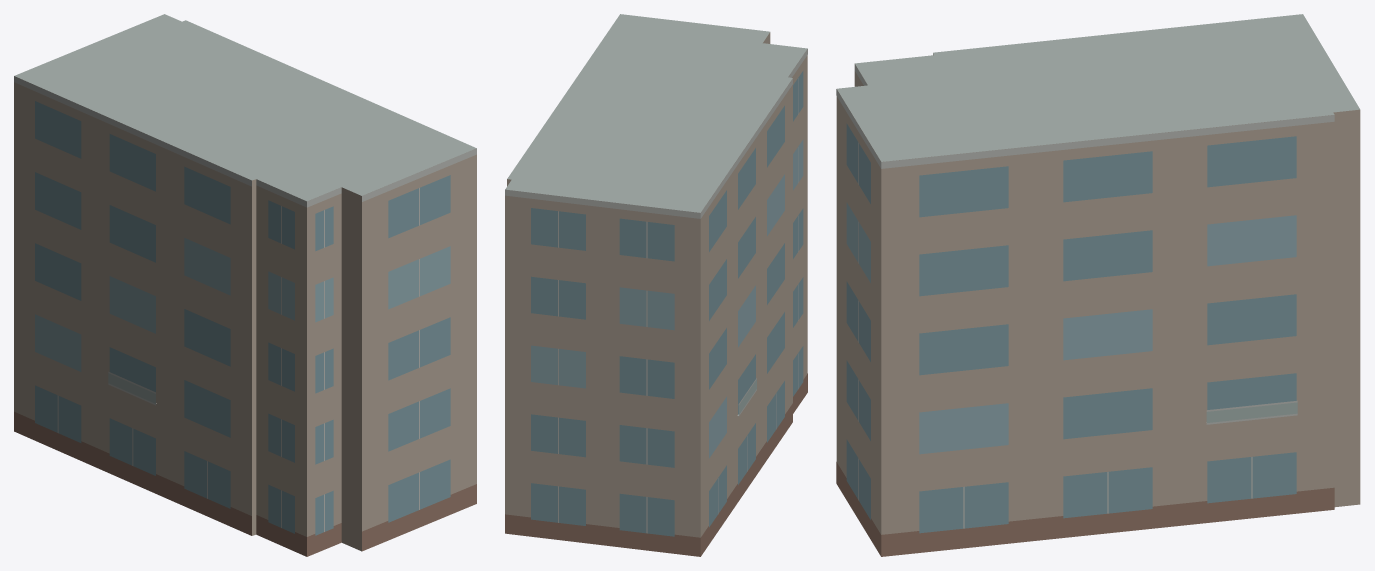
Rendered from survey-upis-32923580.glb.
3 renders of one model, left to right at view 1: azimuth 30°, elevation 25°; view 2: azimuth 150°, elevation 25°; view 3: azimuth 270°, elevation 25°, orthographic. The views are drawn at different scales.
Visible parts, largest first — view 1: survey-upis-32923580.tmp; view 2: survey-upis-32923580.tmp; view 3: survey-upis-32923580.tmp.
Boxes of the visible parts, bbox=[...] form: survey-upis-32923580.tmp: bbox=[14, 14, 476, 556]; survey-upis-32923580.tmp: bbox=[505, 14, 807, 556]; survey-upis-32923580.tmp: bbox=[836, 14, 1360, 556].
Bounding box in the file's own units: 11.18 × 13.9 × 16.72.
